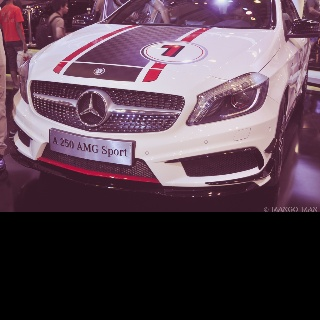without_mask: (51, 0, 68, 13)
